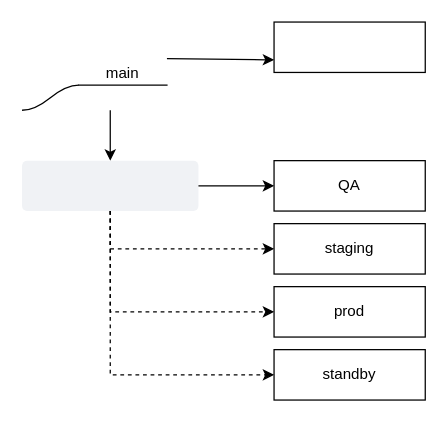
Some shapes in this 447 by 422 pixel diagram are drawn without their labels. Each missing label, with the box of its shape:
sandbox: (273, 21, 425, 72)
tag release: (21, 160, 198, 210)
